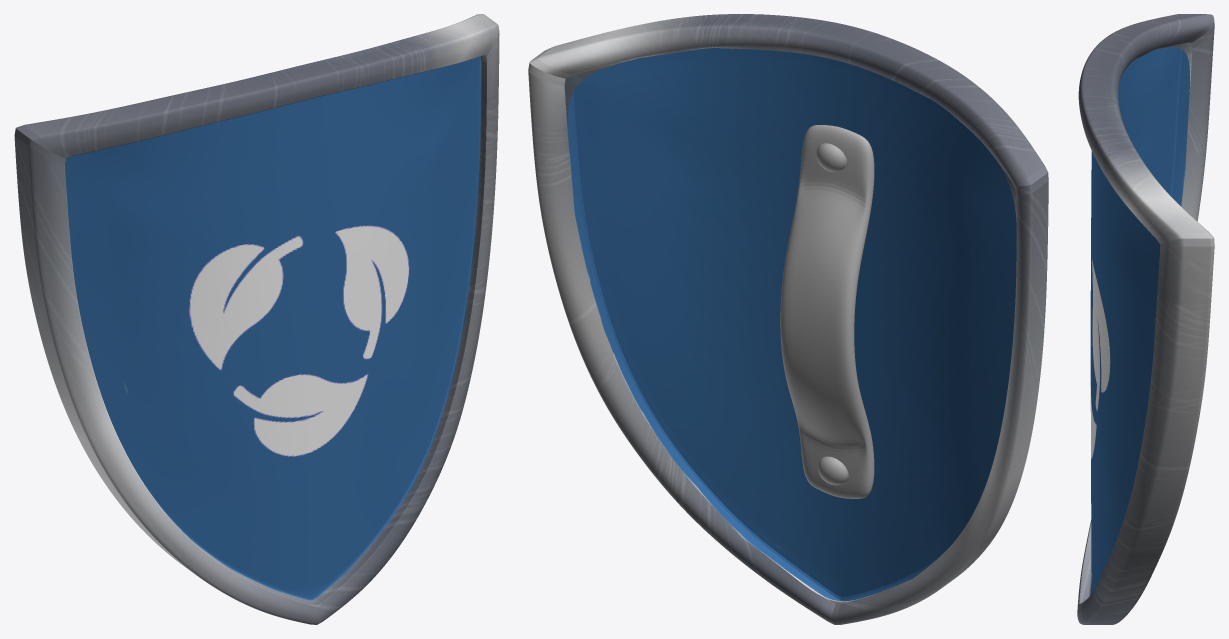
File: Shield-1.fbx
3 renders of one model, left to right at view 1: azimuth 30°, elevation 25°; view 2: azimuth 150°, elevation 25°; view 3: azimuth 270°, elevation 25°, orthographic. The views are drawn at different scales.
Parts seen in each view (by area): view 1: Plane; view 2: Plane, Cube; view 3: Plane.
Boxes of the visible parts, x1,y1,x2,y2 form: Plane: (14,14,499,624); Plane: (528,14,1048,624); Cube: (780,125,874,498); Plane: (1077,14,1214,624).
Size of the model in its own units: 179 by 200 by 46.2.
